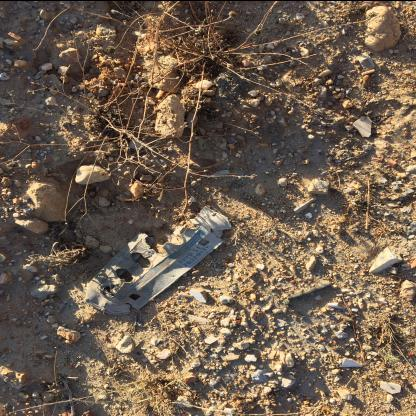karton: (83, 204, 232, 314)
